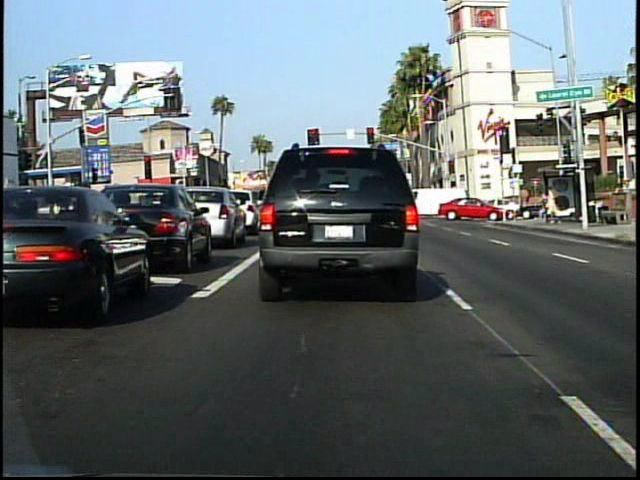person: (541, 182, 560, 227)
